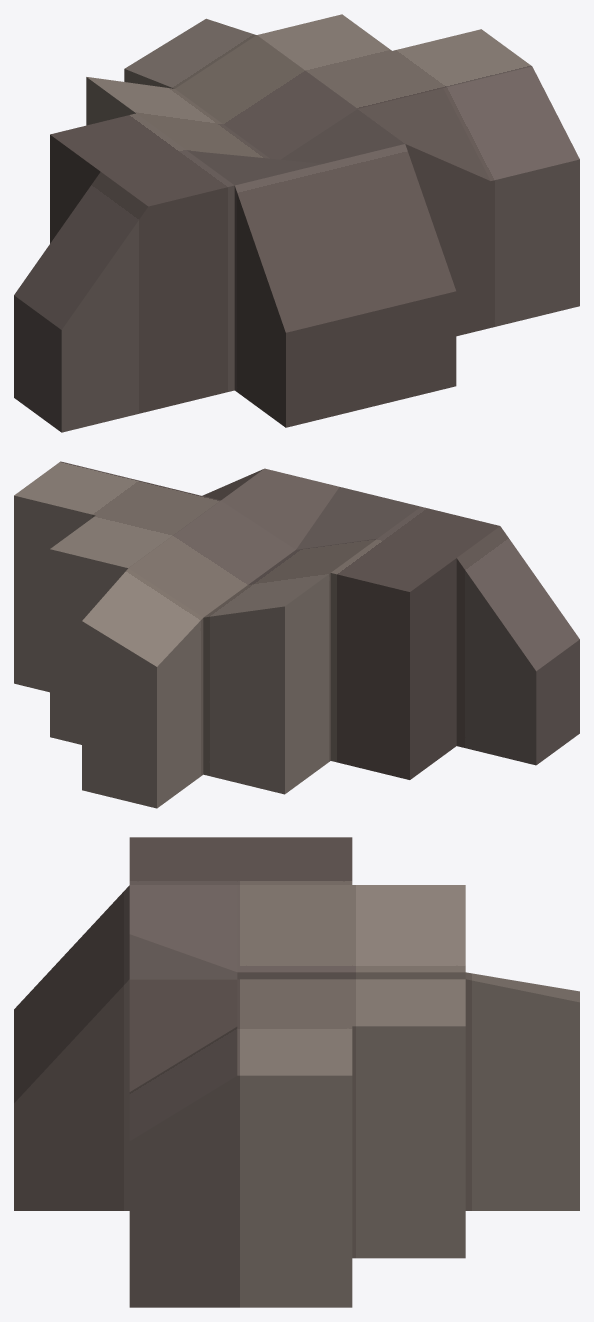
Rendered from garbage_415x23.gltf.
3 renders of one model, top to bottom at view 1: azimuth 30°, elevation 25°; view 2: azimuth 150°, elevation 25°; view 3: azimuth 270°, elevation 25°, orthographic. The views are drawn at different scales.
Visible parts, largest first — view 1: garbage_415x23; view 2: garbage_415x23; view 3: garbage_415x23.
Boxes of the visible parts, box(x1,y1,x2,y2) form: garbage_415x23: box(14, 14, 579, 432); garbage_415x23: box(14, 461, 579, 808); garbage_415x23: box(14, 837, 579, 1307).
Size of the model in its own units: 0.3692 by 0.1395 by 0.3087.
Materials: 1 (1 with a texture image).
